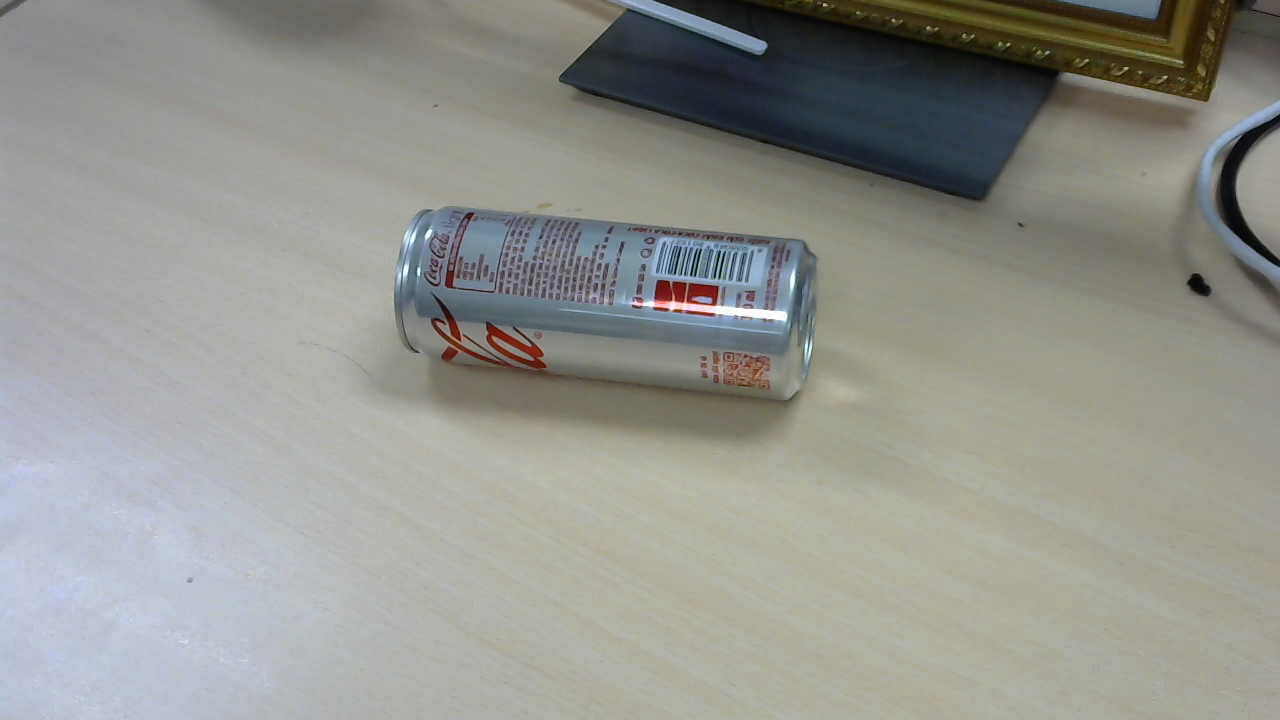Coca_Cola: (399, 210, 826, 409)
